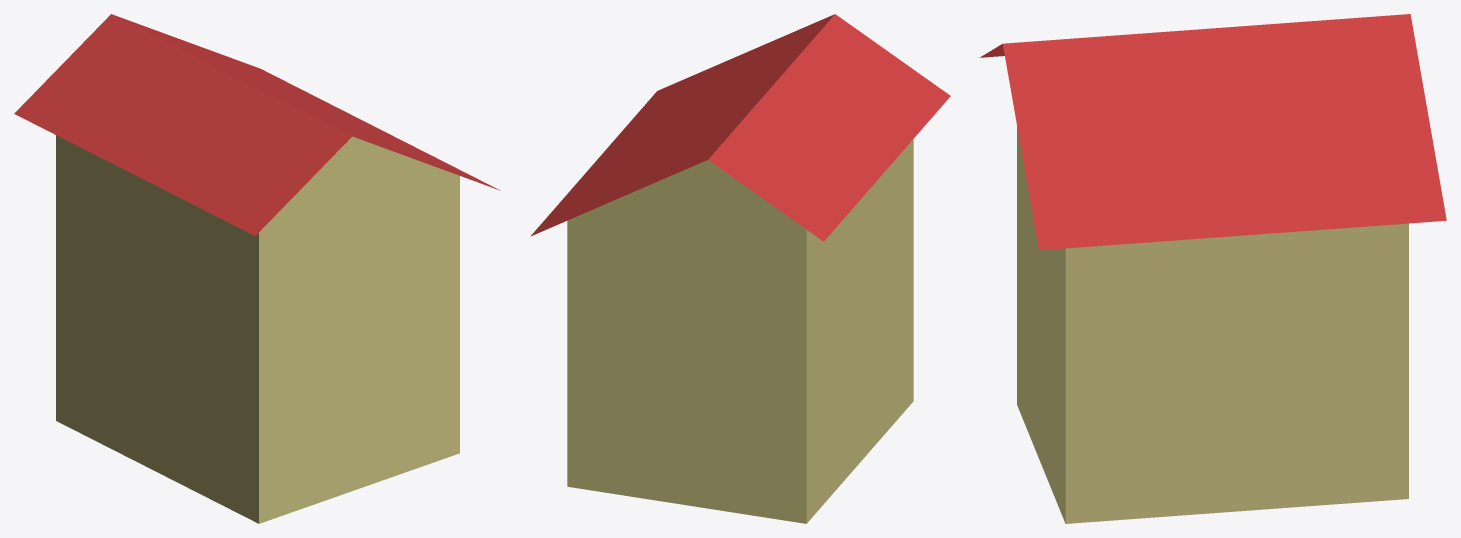
The picture shows the model from 3 angles, left to right: view 1: azimuth 30°, elevation 25°; view 2: azimuth 150°, elevation 25°; view 3: azimuth 270°, elevation 25°; orthographic projection. The views are drawn at different scales.
Bounding box in the file's own units: 12.79 × 14.32 × 13.76.
